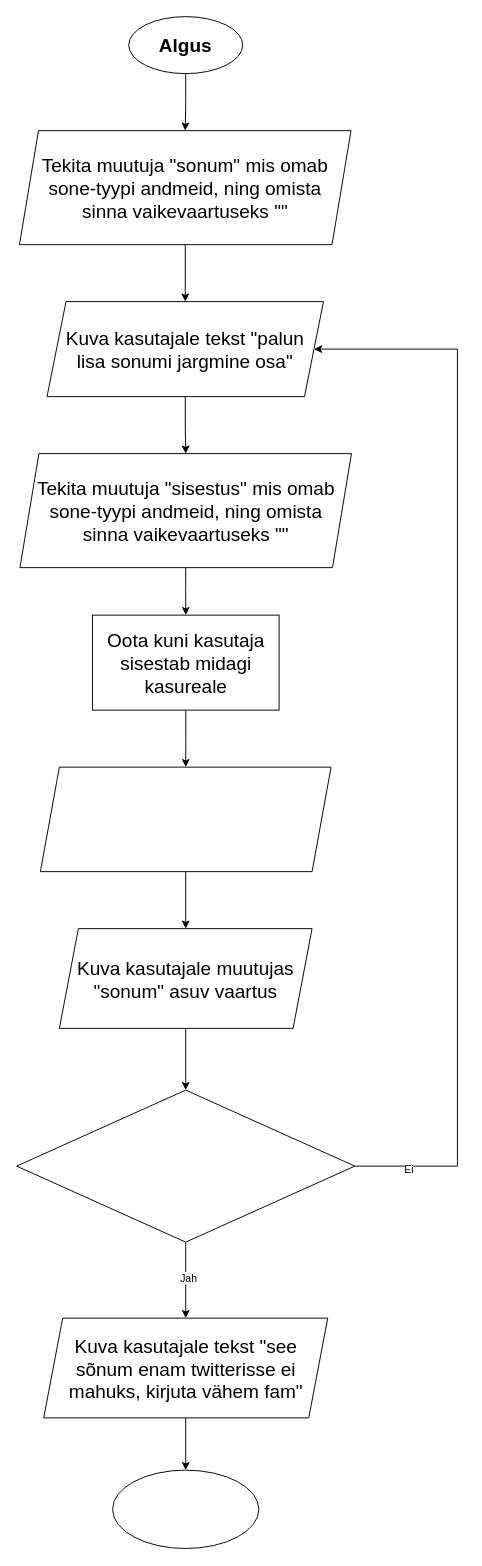
The diagram is 482 pixels wide and 1566 high, and some of its shapes have lost their labels. The shapes that lost their labels are listed below. From the top down, each one's centre as x and y in pixels, then its label:
(185,819): lisa muutujasse sonum koos seal eelneva vaartusega, muutuja "sisestus" vaartus
(185,1165): Kas muutujas "sonum" asuv vaartus on pikem kui 140 tahtemarki?
(185,1508): Lopp
